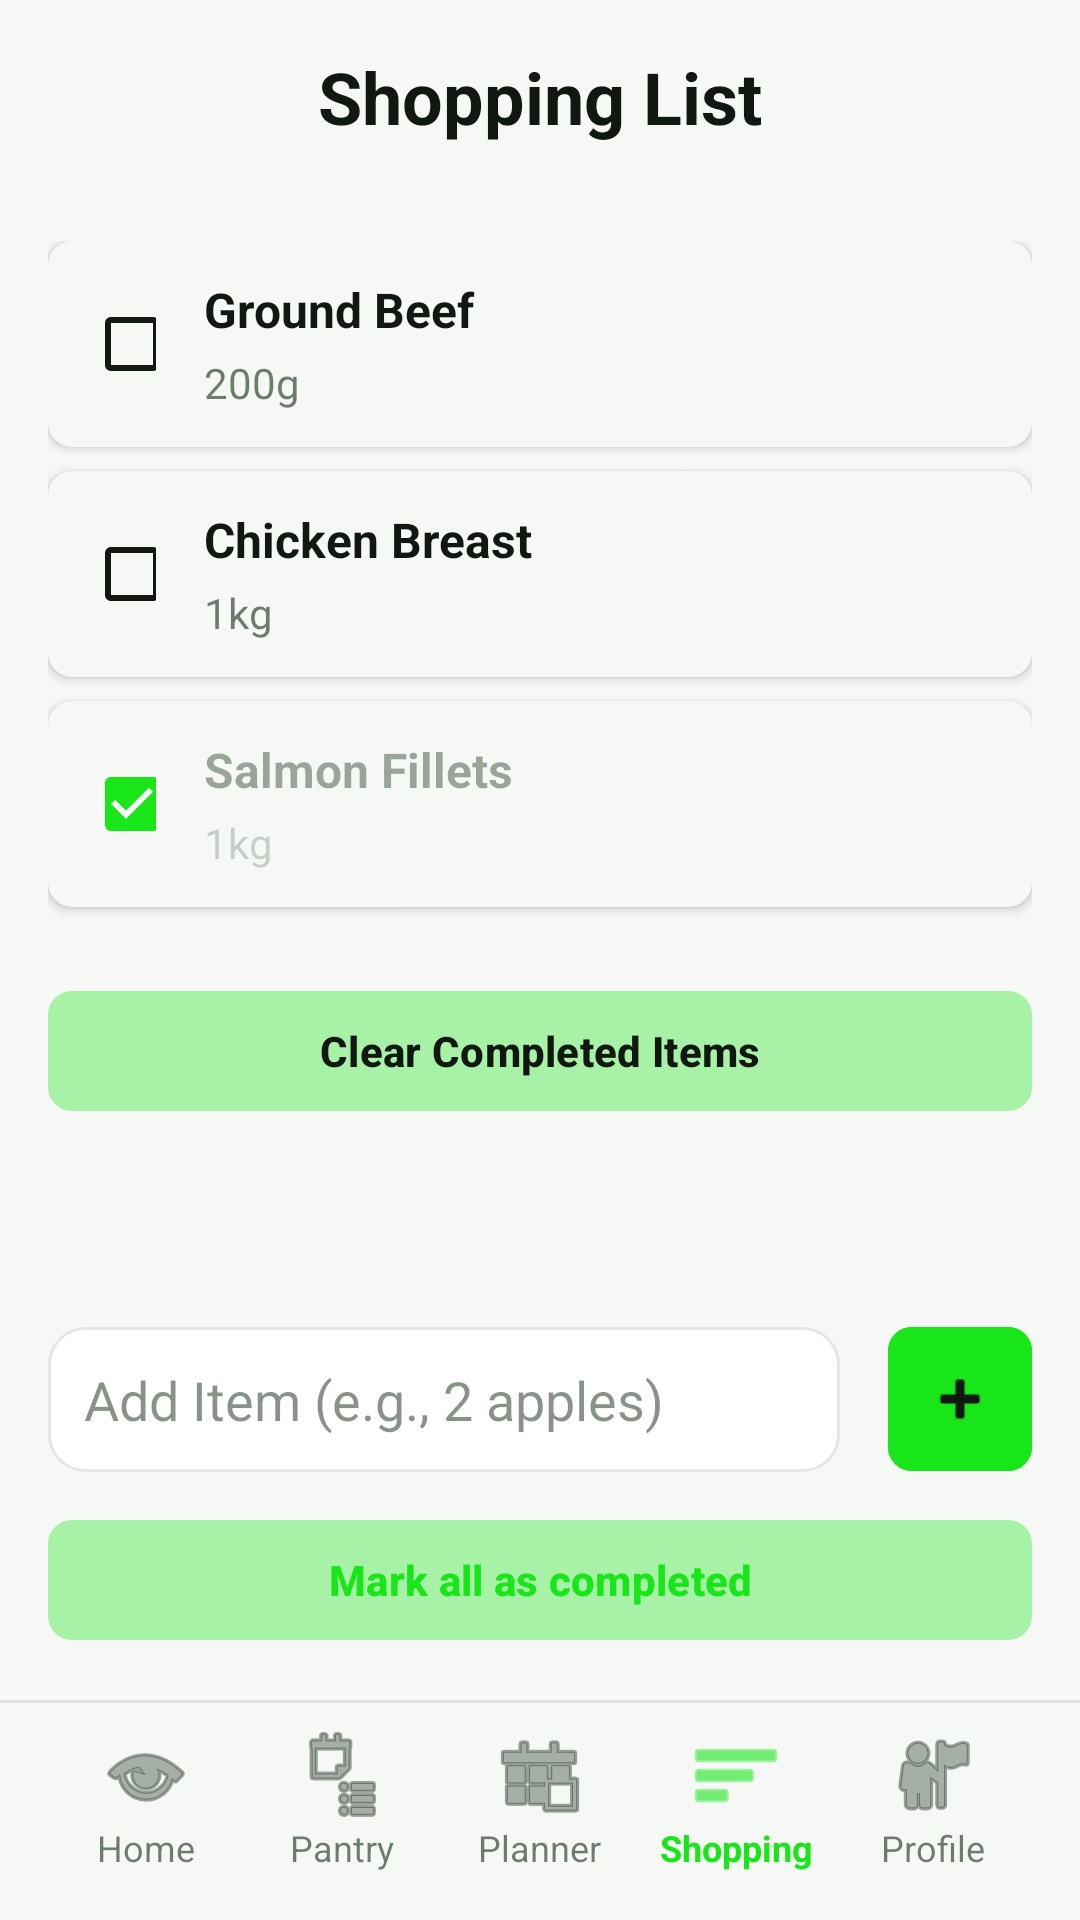

Point at icon controls on the screen. Image size 1080x1920, points as (x,y).
agenda: (342,1774)
sort by size: (736,1775)
today: (540,1776)
view: (146,1777)
